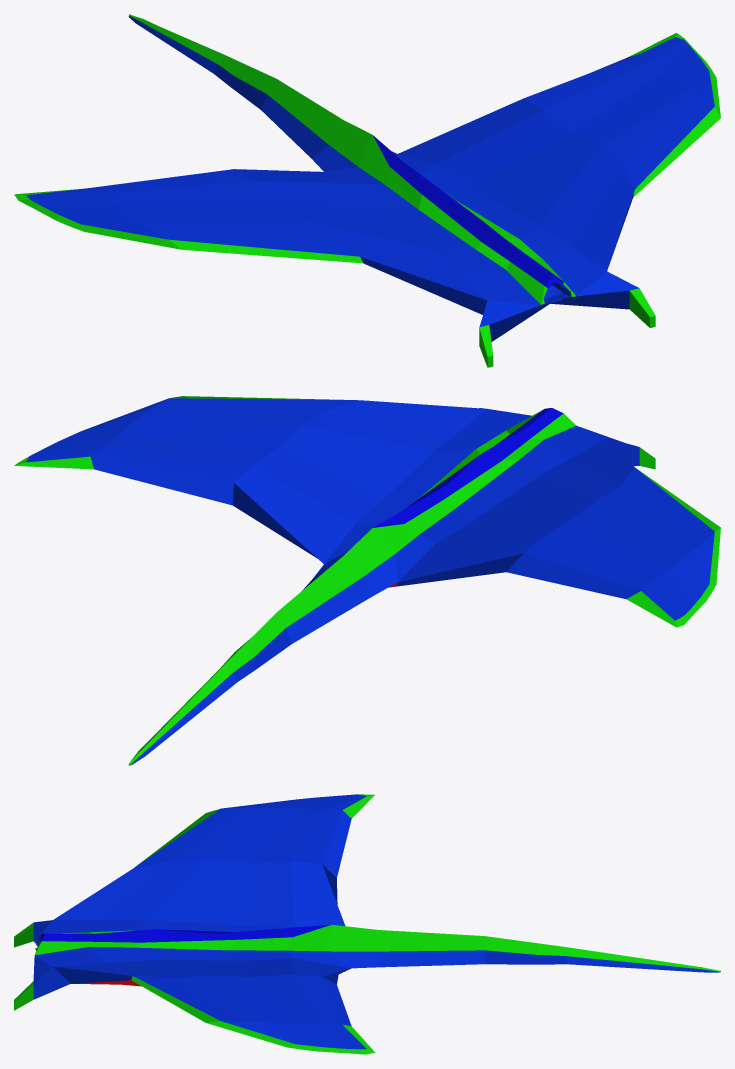
File: Ray.fbx
3 renders of one model, top to bottom at view 1: azimuth 30°, elevation 25°; view 2: azimuth 150°, elevation 25°; view 3: azimuth 270°, elevation 25°, orthographic. The views are drawn at different scales.
Visible parts, largest first — view 1: Cube.001; view 2: Cube.001; view 3: Cube.001.
Part boxes in pixels (x1,y1,x2,y2): Cube.001: (14,14,720,367); Cube.001: (14,396,720,765); Cube.001: (14,794,720,1054).
Size of the model in its own units: 5.36 by 0.6112 by 6.18.
